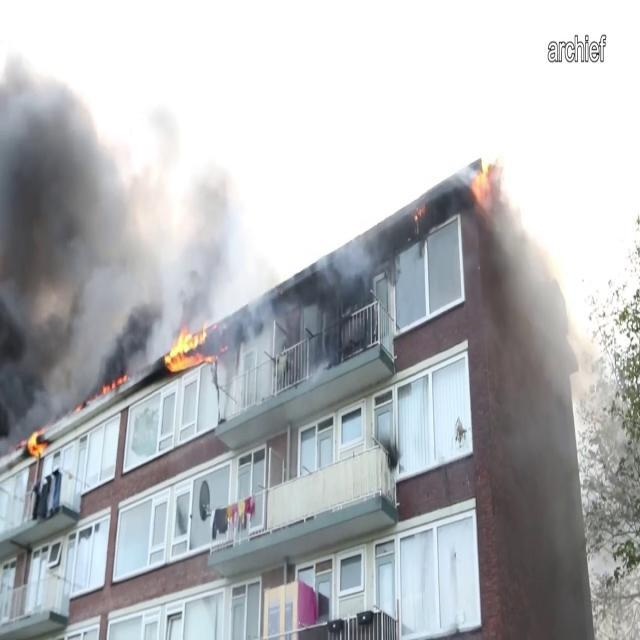Fire: (161, 322, 216, 369)
Smoke: (0, 13, 226, 408), (468, 69, 628, 560)
